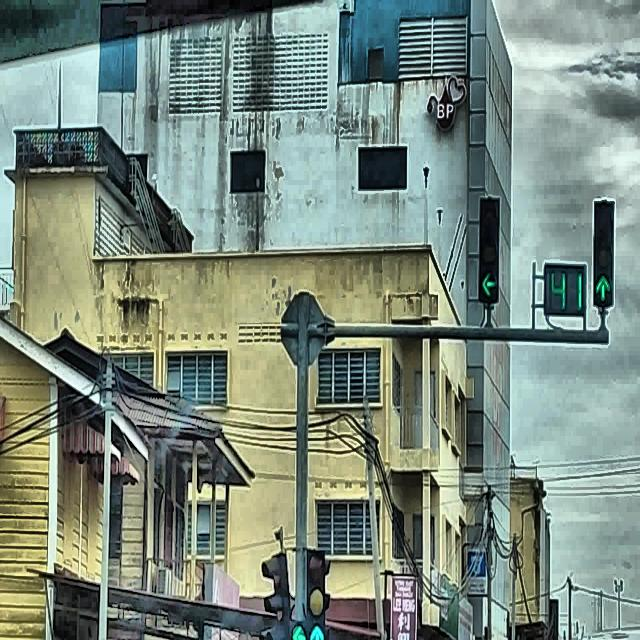green: (593, 198, 615, 308), (478, 197, 500, 303)
